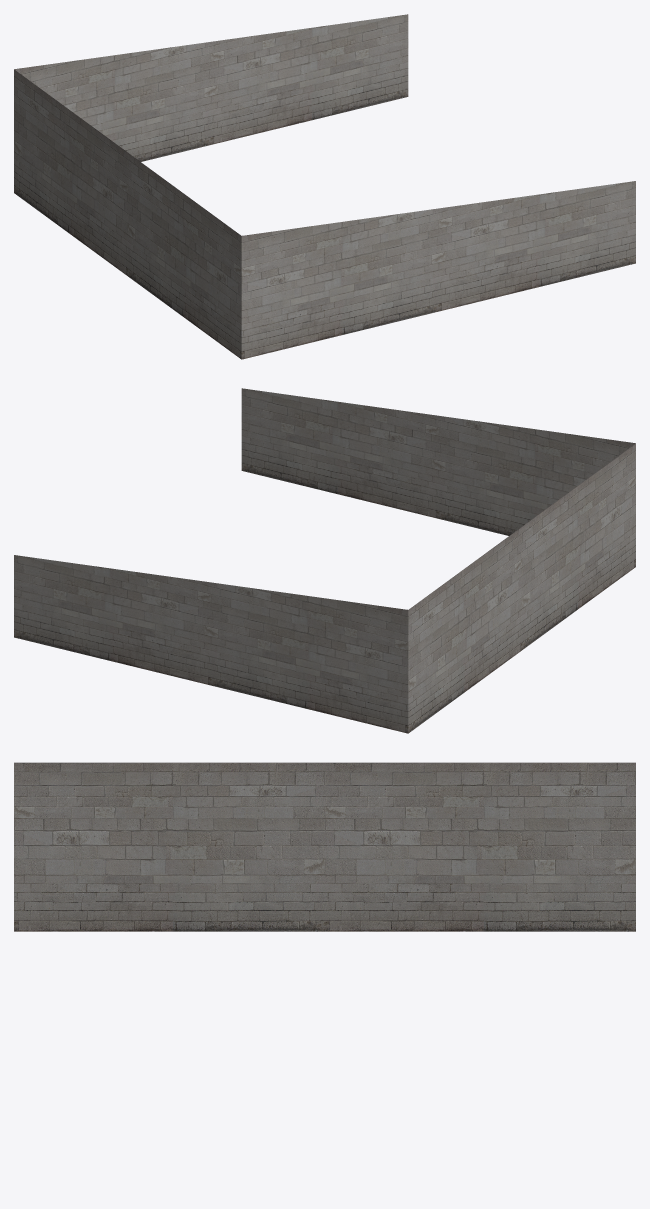
The model's file is Gradient_AngleSideWall_6M.fbx.
3 renders of one model, top to bottom at view 1: azimuth 30°, elevation 25°; view 2: azimuth 150°, elevation 25°; view 3: azimuth 270°, elevation 25°, orthographic. The views are drawn at different scales.
Parts seen in each view (by area): view 1: Gradient_AngleSideWall_6M; view 2: Gradient_AngleSideWall_6M; view 3: Gradient_AngleSideWall_6M.
Boxes of the visible parts, x1,y1,x2,y2 form: Gradient_AngleSideWall_6M: (14, 14, 635, 359); Gradient_AngleSideWall_6M: (14, 388, 635, 733); Gradient_AngleSideWall_6M: (14, 762, 635, 931).
Bounding box in the file's own units: 20 × 6 × 20.
